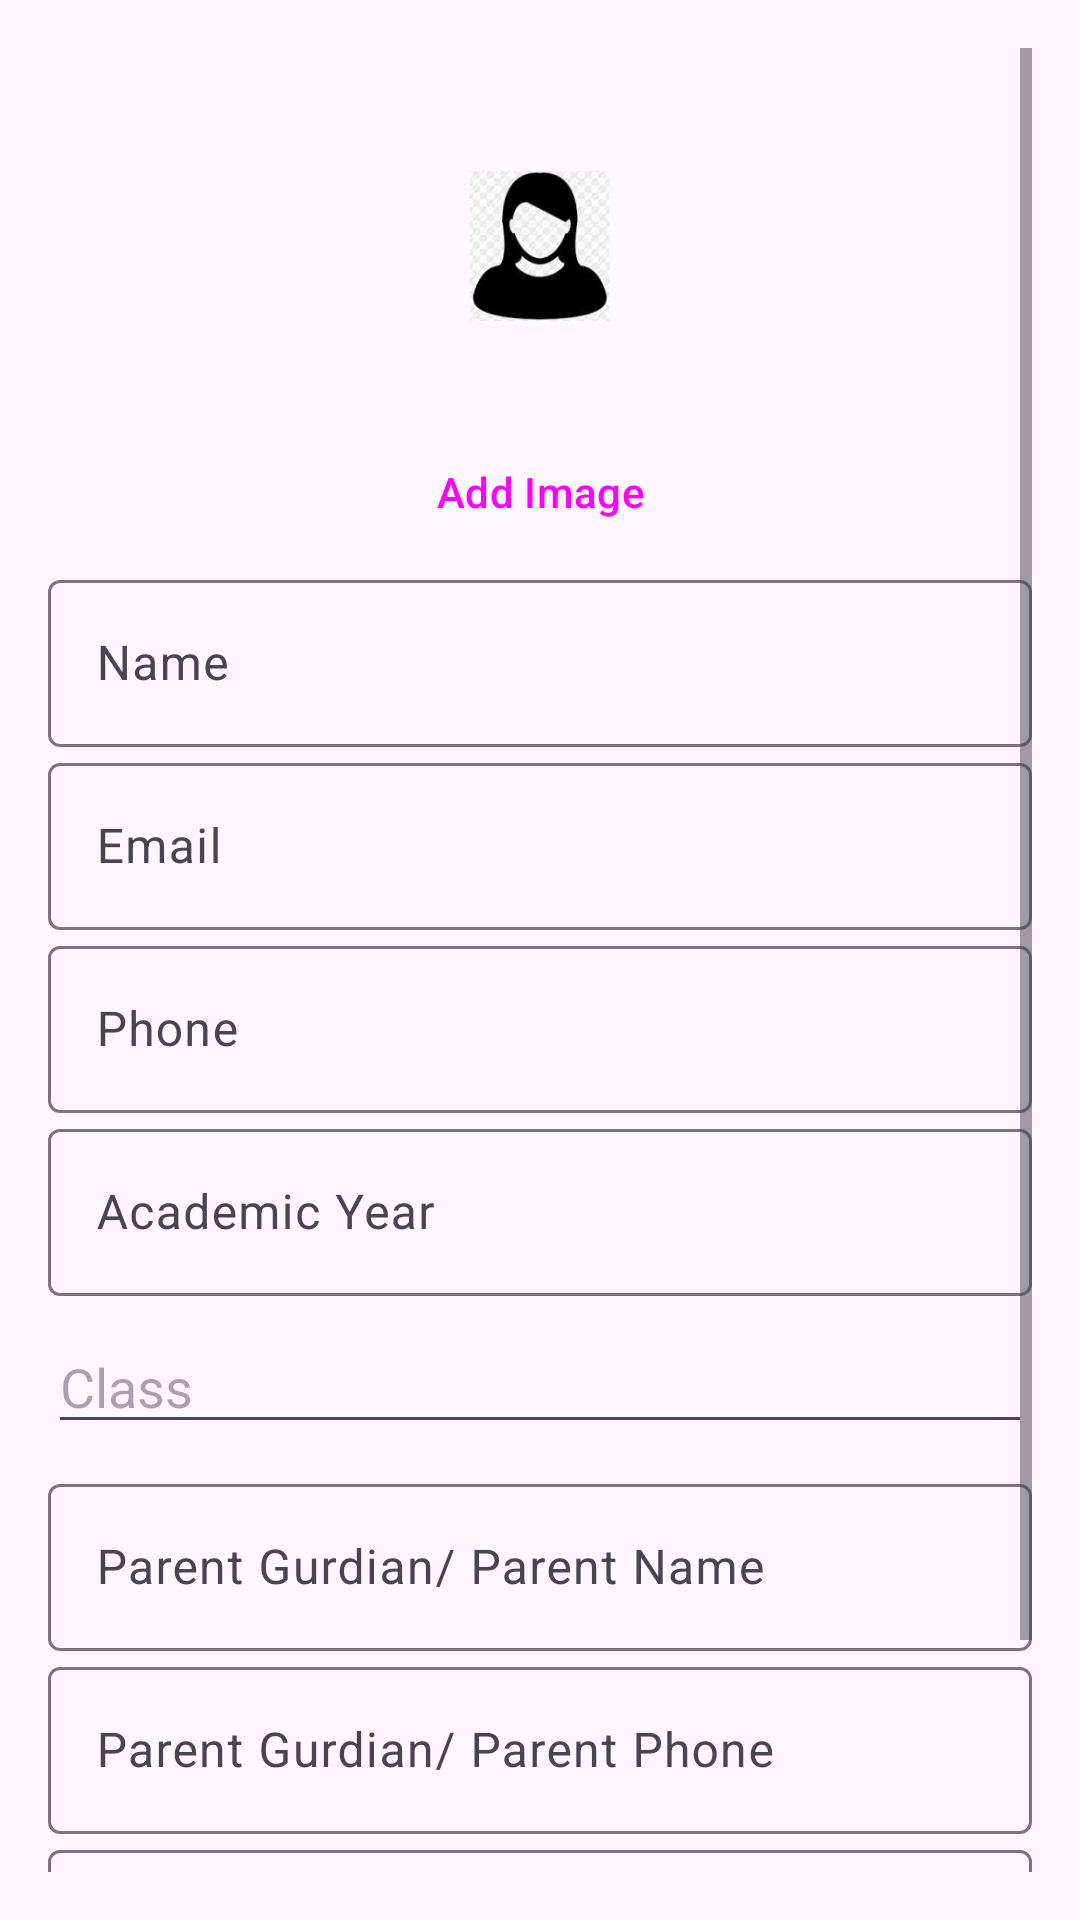

Locate icon controls on the screen. Image size 1080px x 1920px, boxes as (x1, y1, x2, y2).
profile: (470, 172, 609, 321)
